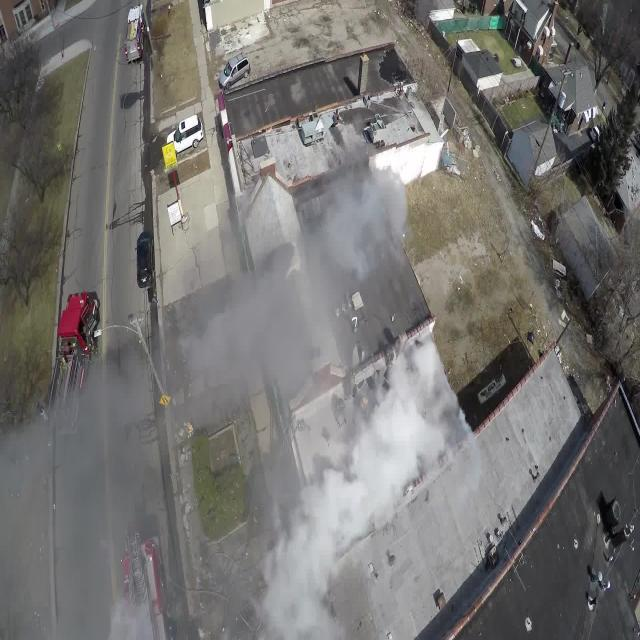Smoke: (11, 166, 448, 640)
